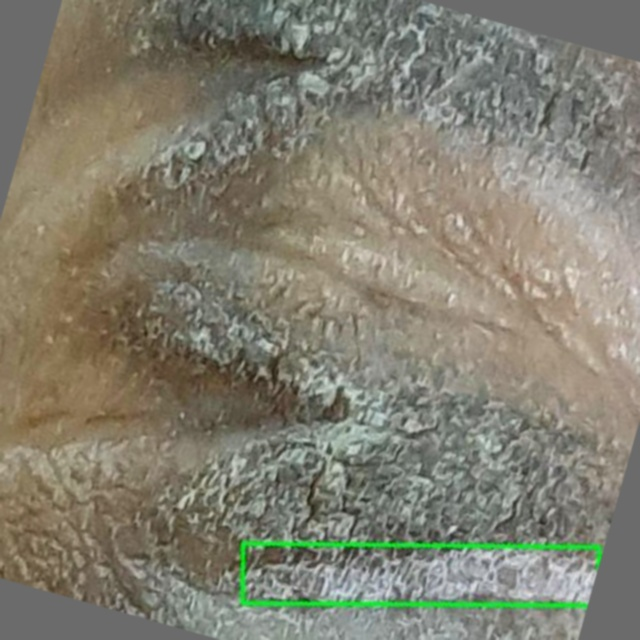Contact Dermatitis: (242, 543, 599, 604)
